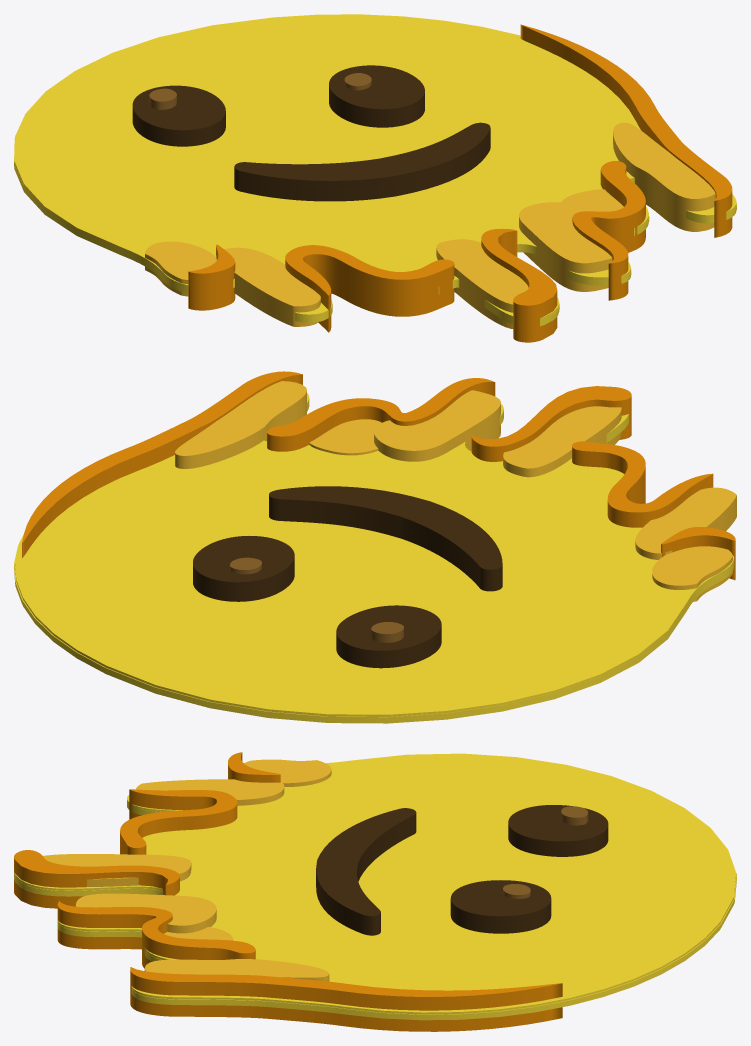
Rendered from emoji_u1fae0.glb.
3 views of the same model, one above another, from view 1: azimuth 30°, elevation 25°; view 2: azimuth 150°, elevation 25°; view 3: azimuth 270°, elevation 25° (orthographic). The views are drawn at different scales.
Visible parts, largest first — view 1: emoji_u1fae0; view 2: emoji_u1fae0; view 3: emoji_u1fae0.
Part boxes in pixels (x1,y1,x2,y2): emoji_u1fae0: (14, 14, 736, 342); emoji_u1fae0: (14, 371, 736, 723); emoji_u1fae0: (14, 752, 736, 1031).
Bounding box in the file's own units: 0.0287 × 0.0028 × 0.0338.
